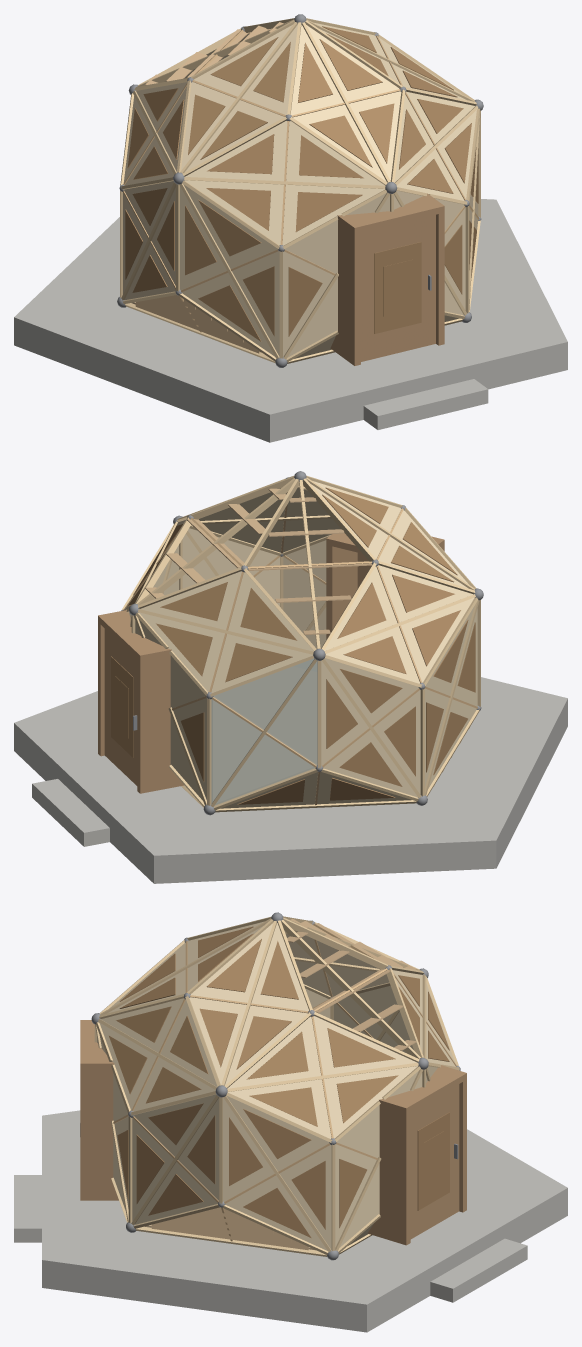
File: dormi_aureo_a.glb
The picture shows the model from 3 angles, top to bottom: view 1: azimuth 30°, elevation 25°; view 2: azimuth 150°, elevation 25°; view 3: azimuth 270°, elevation 25°; orthographic projection.
Visible parts, largest first — view 1: base_podio, cerramiento_panel, cerramiento_incrustacion, estructura_madera_icosaedro, puerta_hoja_1, puertas_puerta, detalles_persiana, estructura_madera_dodecaedro, detalles_acero; view 2: base_podio, cerramiento_panel, cerramiento_incrustacion, estructura_madera_icosaedro, ventanas_vidrio, base_piso, puertas_puerta, puerta_hoja_2, detalles_persiana, estructura_madera_dodecaedro, detalles_acero; view 3: base_podio, cerramiento_panel, cerramiento_incrustacion, estructura_madera_icosaedro, puertas_puerta, puerta_hoja_2, detalles_persiana, estructura_madera_dodecaedro, detalles_acero.
Boxes of the visible parts, left/top/right/bottom form: base_podio: left=14, top=199, right=567, bottom=442; cerramiento_panel: left=123, top=23, right=478, bottom=358; cerramiento_incrustacion: left=125, top=26, right=478, bottom=341; estructura_madera_icosaedro: left=120, top=18, right=480, bottom=363; puerta_hoja_1: left=361, top=214, right=435, bottom=361; puertas_puerta: left=330, top=193, right=444, bottom=365; detalles_persiana: left=135, top=22, right=283, bottom=353; estructura_madera_dodecaedro: left=123, top=29, right=479, bottom=332; detalles_acero: left=117, top=14, right=483, bottom=367; base_podio: left=14, top=677, right=567, bottom=883; cerramiento_panel: left=125, top=481, right=477, bottom=808; cerramiento_incrustacion: left=128, top=487, right=475, bottom=804; estructura_madera_icosaedro: left=121, top=475, right=480, bottom=812; ventanas_vidrio: left=211, top=658, right=317, bottom=805; base_piso: left=213, top=666, right=316, bottom=802; puertas_puerta: left=98, top=533, right=444, bottom=793; puerta_hoja_2: left=104, top=628, right=137, bottom=785; detalles_persiana: left=145, top=488, right=469, bottom=785; estructura_madera_dodecaedro: left=123, top=486, right=477, bottom=805; detalles_acero: left=121, top=471, right=483, bottom=815; base_podio: left=14, top=1110, right=567, bottom=1332; cerramiento_panel: left=97, top=921, right=455, bottom=1250; cerramiento_incrustacion: left=109, top=926, right=449, bottom=1237; estructura_madera_icosaedro: left=94, top=916, right=459, bottom=1256; puertas_puerta: left=80, top=1020, right=466, bottom=1245; puerta_hoja_2: left=410, top=1084, right=459, bottom=1239; detalles_persiana: left=151, top=918, right=416, bottom=1250; estructura_madera_dodecaedro: left=113, top=923, right=456, bottom=1241; detalles_acero: left=91, top=912, right=460, bottom=1260.
Bounding box in the file's own units: 7.85 × 4.75 × 7.87.
